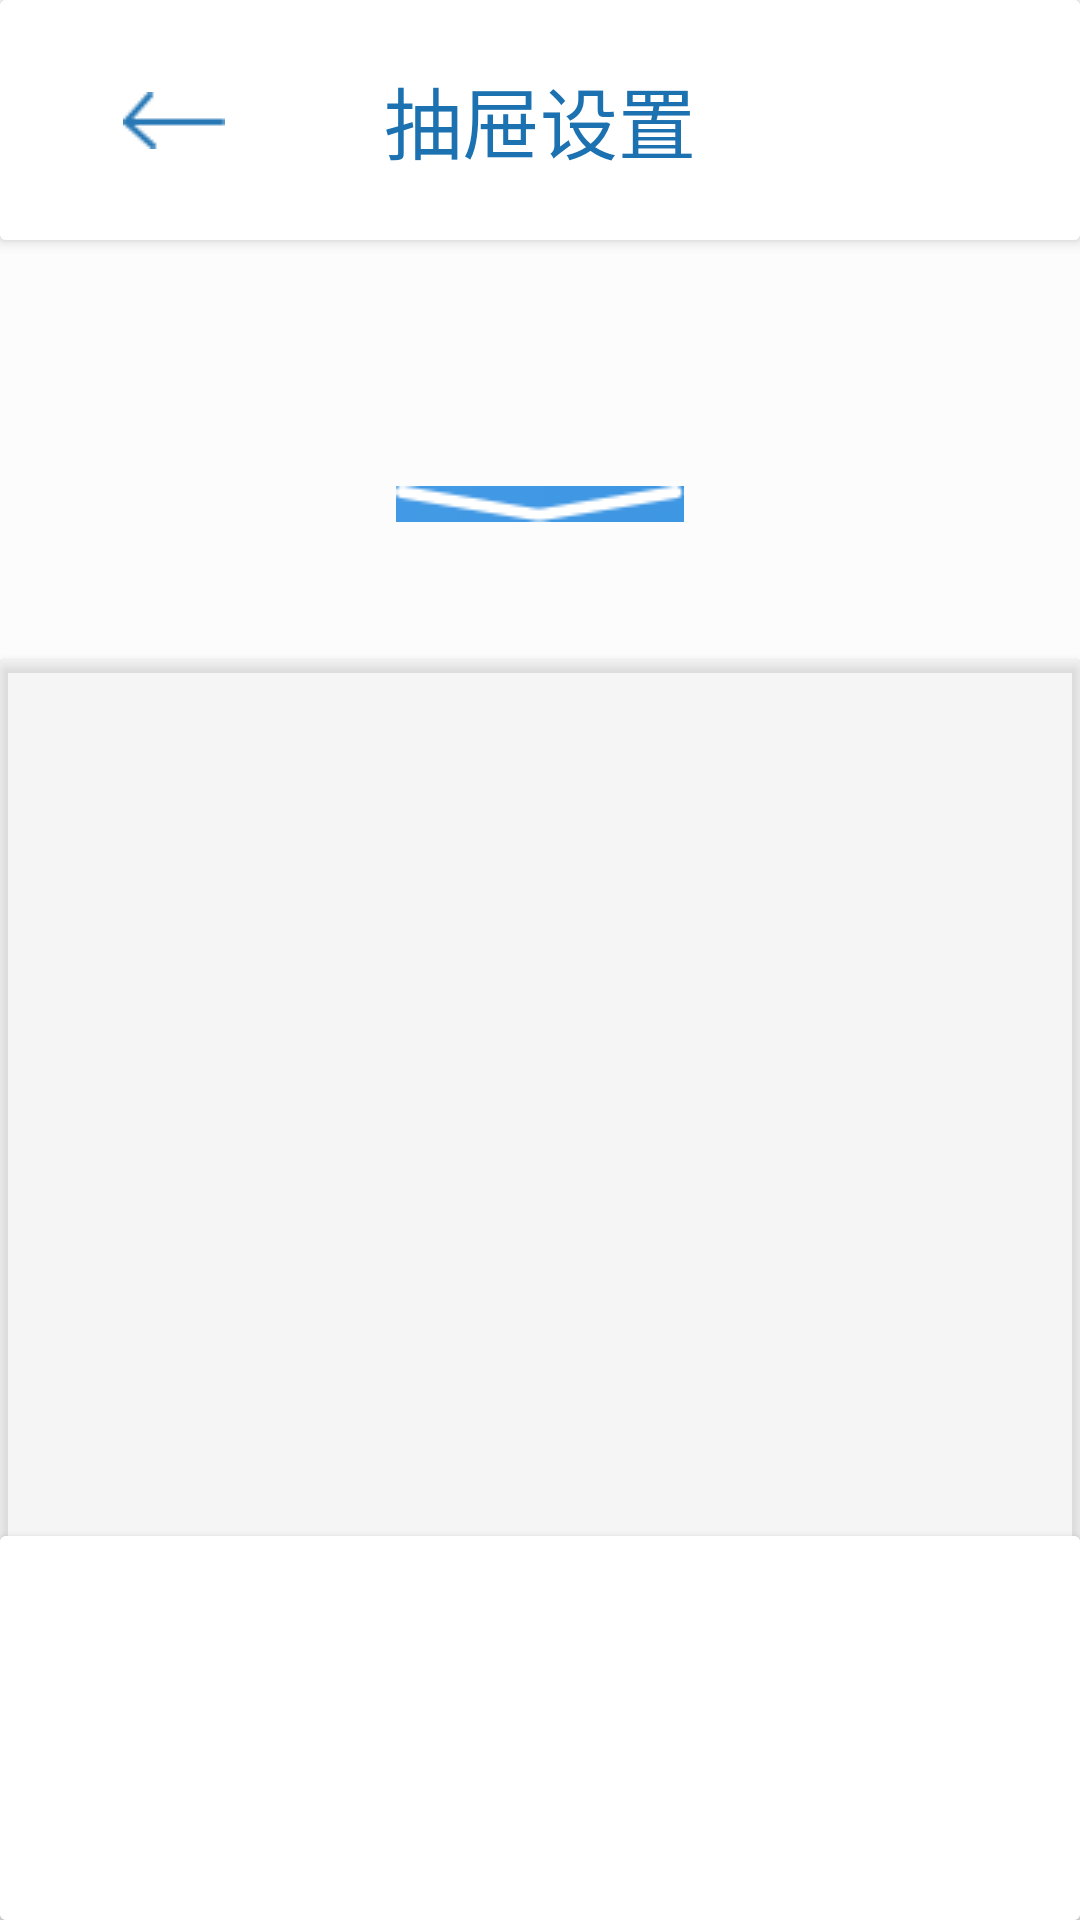

Where icons sit on this 1080*1920 app screen, as (x1, y1, x2, y2):
back style: (123, 92, 225, 149)
